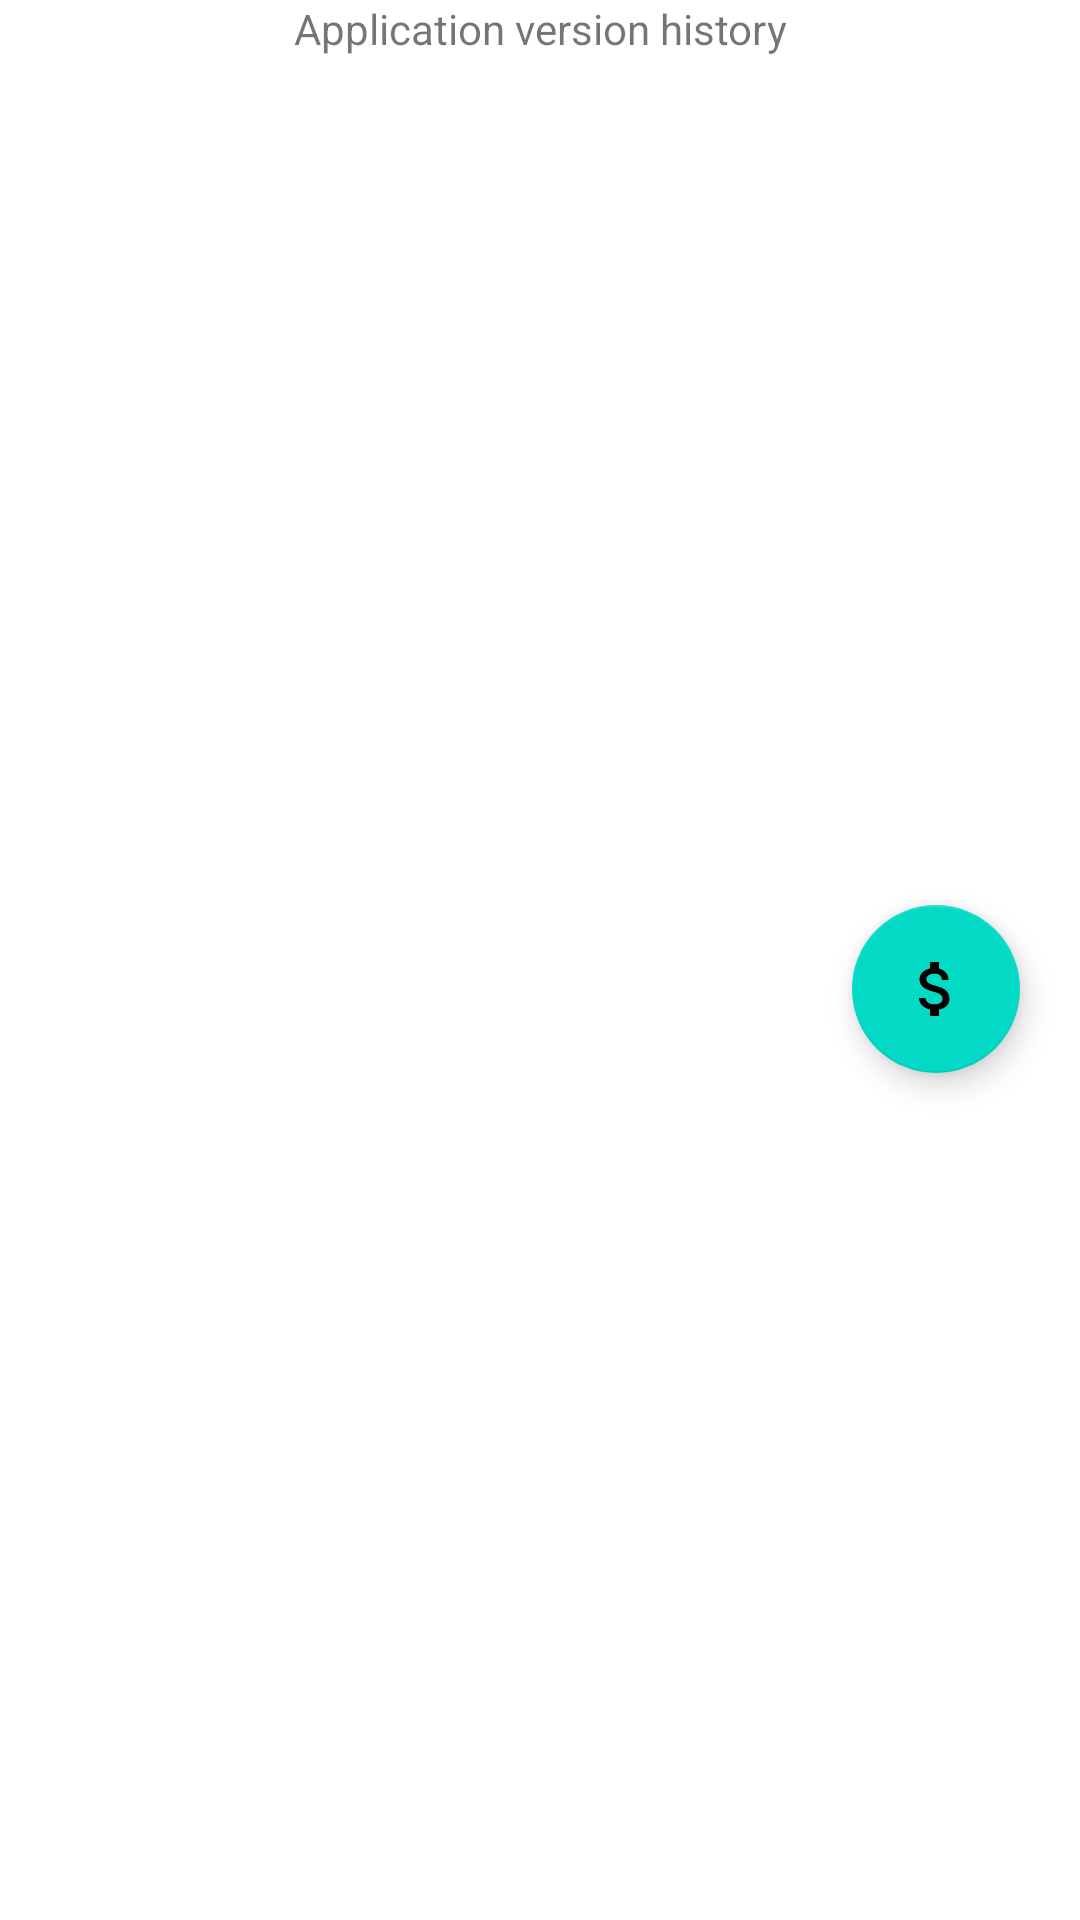

Locate icon controls on the screen. Image size 1080×1920, boxes as (x1, y1, x2, y2).
attach money: (852, 905, 1020, 1073)
